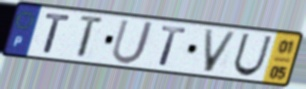T: (76, 13, 107, 60), (157, 24, 188, 69), (42, 12, 73, 56)
U: (109, 18, 157, 66), (231, 31, 275, 78)
V: (202, 28, 239, 75)
